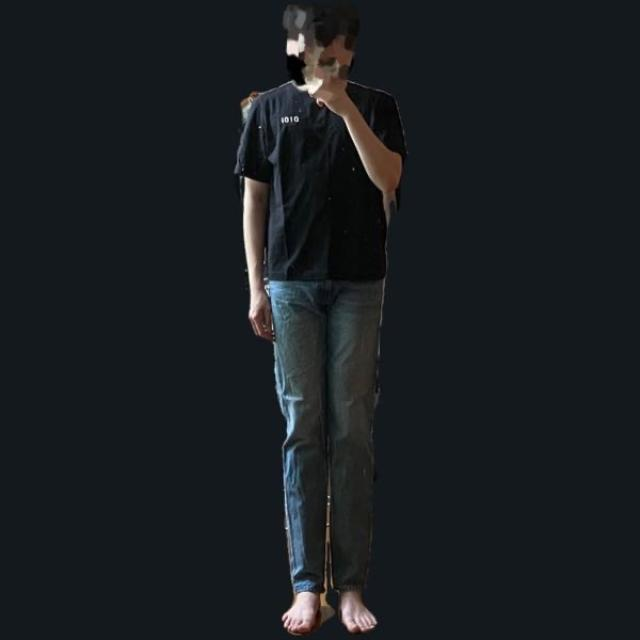denimpants: (275, 278, 388, 603)
shortsleeve: (232, 80, 406, 284)
